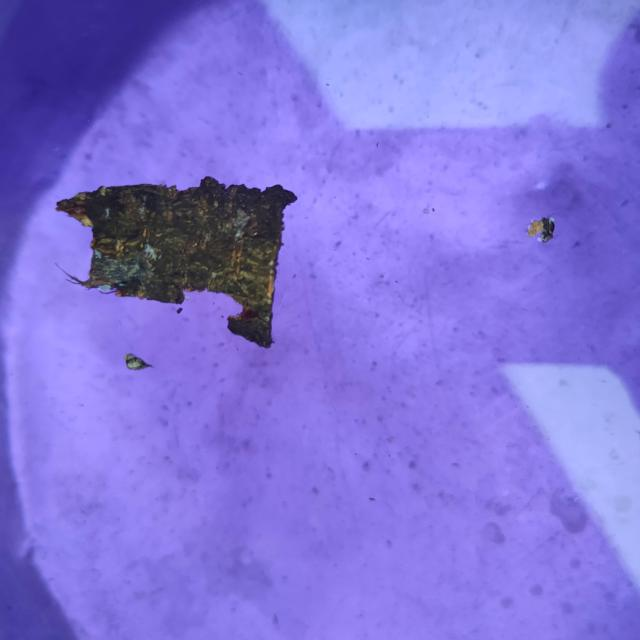wood: (58, 151, 280, 358)
